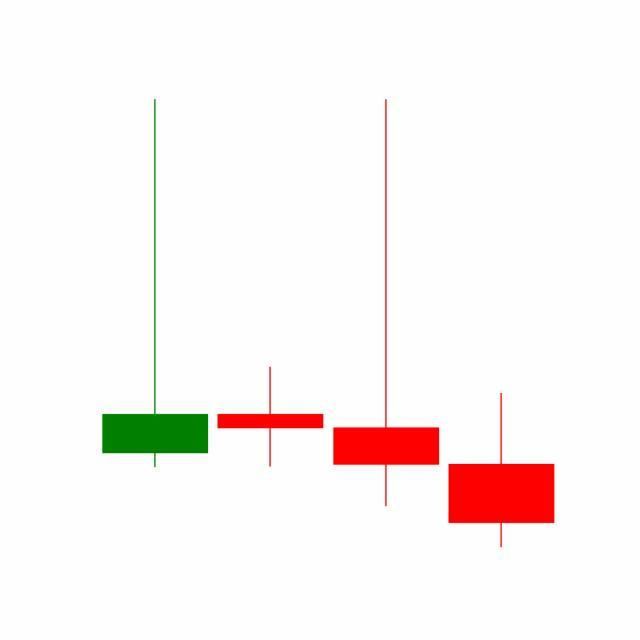Spinning Top: (329, 96, 445, 512)
